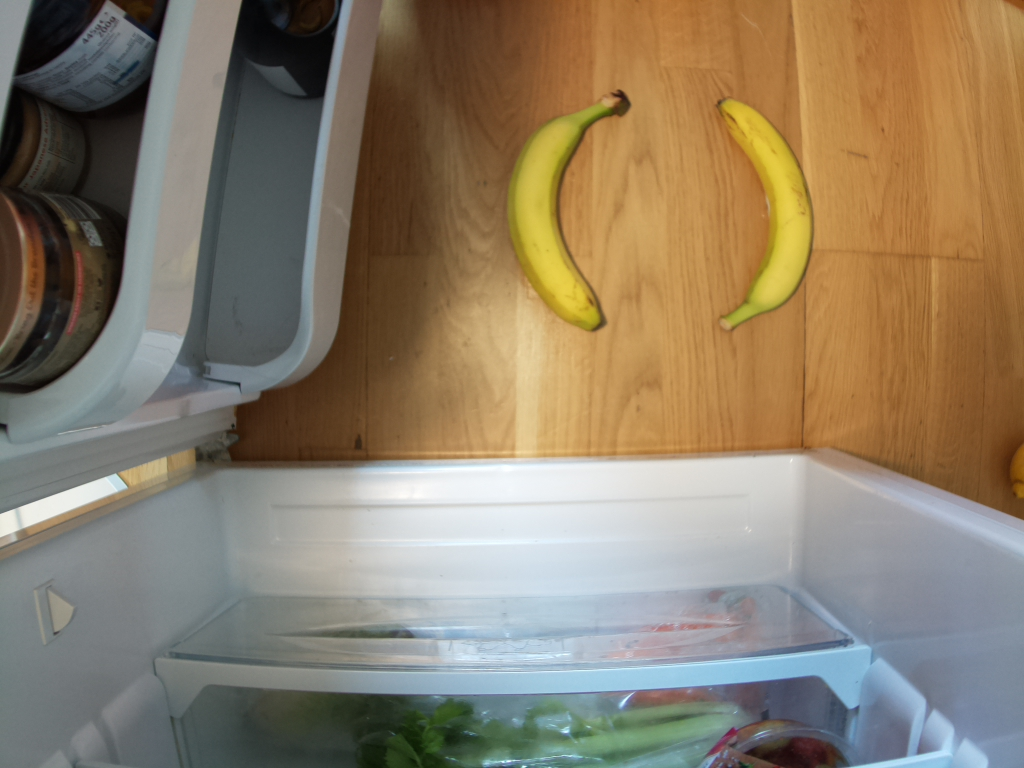banana-unripe: (498, 91, 633, 338), (712, 89, 810, 331)
